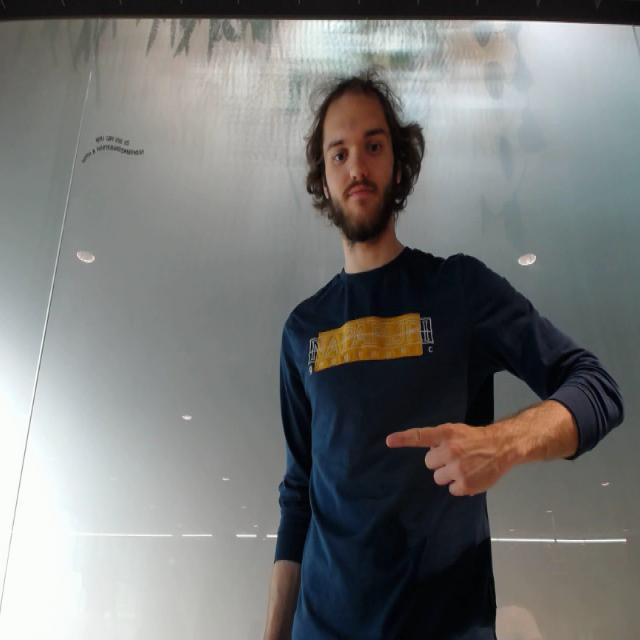left: (382, 417, 509, 500)
